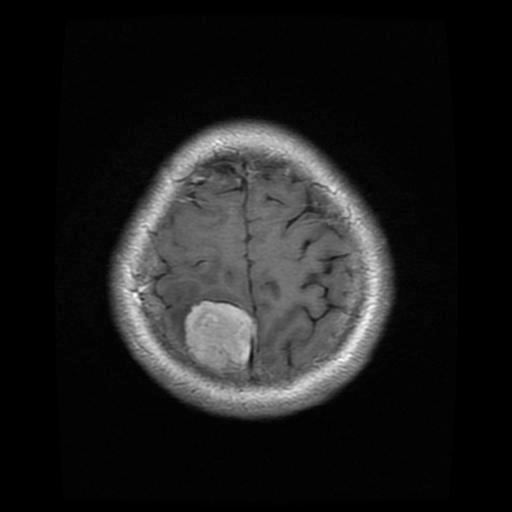Tumour-Meningioma: (163, 289, 271, 388)
